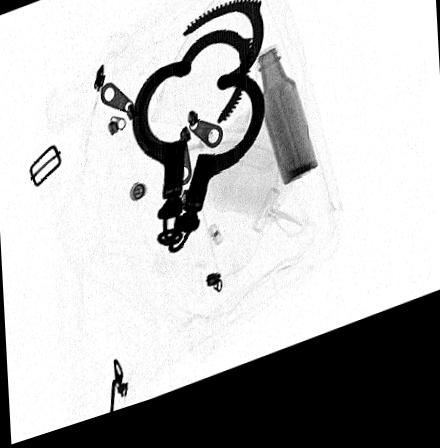HandCuffs: (126, 11, 267, 268)
